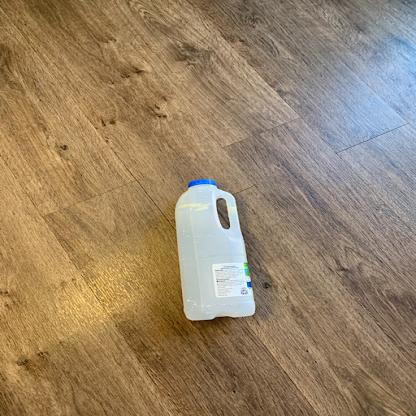trash: (165, 177, 266, 322)
